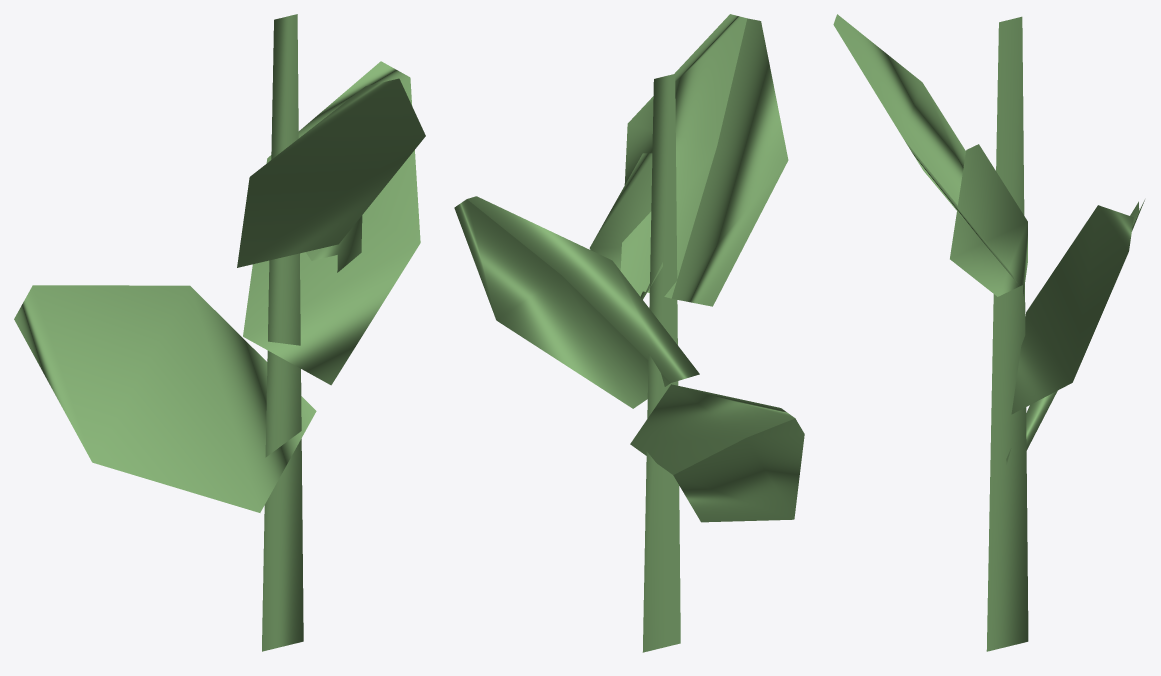
Rendered from corn.gltf.
The picture shows the model from 3 angles, left to right: view 1: azimuth 30°, elevation 25°; view 2: azimuth 150°, elevation 25°; view 3: azimuth 270°, elevation 25°; orthographic projection. The views are drawn at different scales.
Parts seen in each view (by area): view 1: corn; view 2: corn; view 3: corn.
Boxes of the visible parts, <box> form: corn: <box>14,14,425,651</box>; corn: <box>454,14,804,652</box>; corn: <box>833,14,1144,651</box>.
Bounding box in the file's own units: 0.5183 × 0.8024 × 0.3606.
